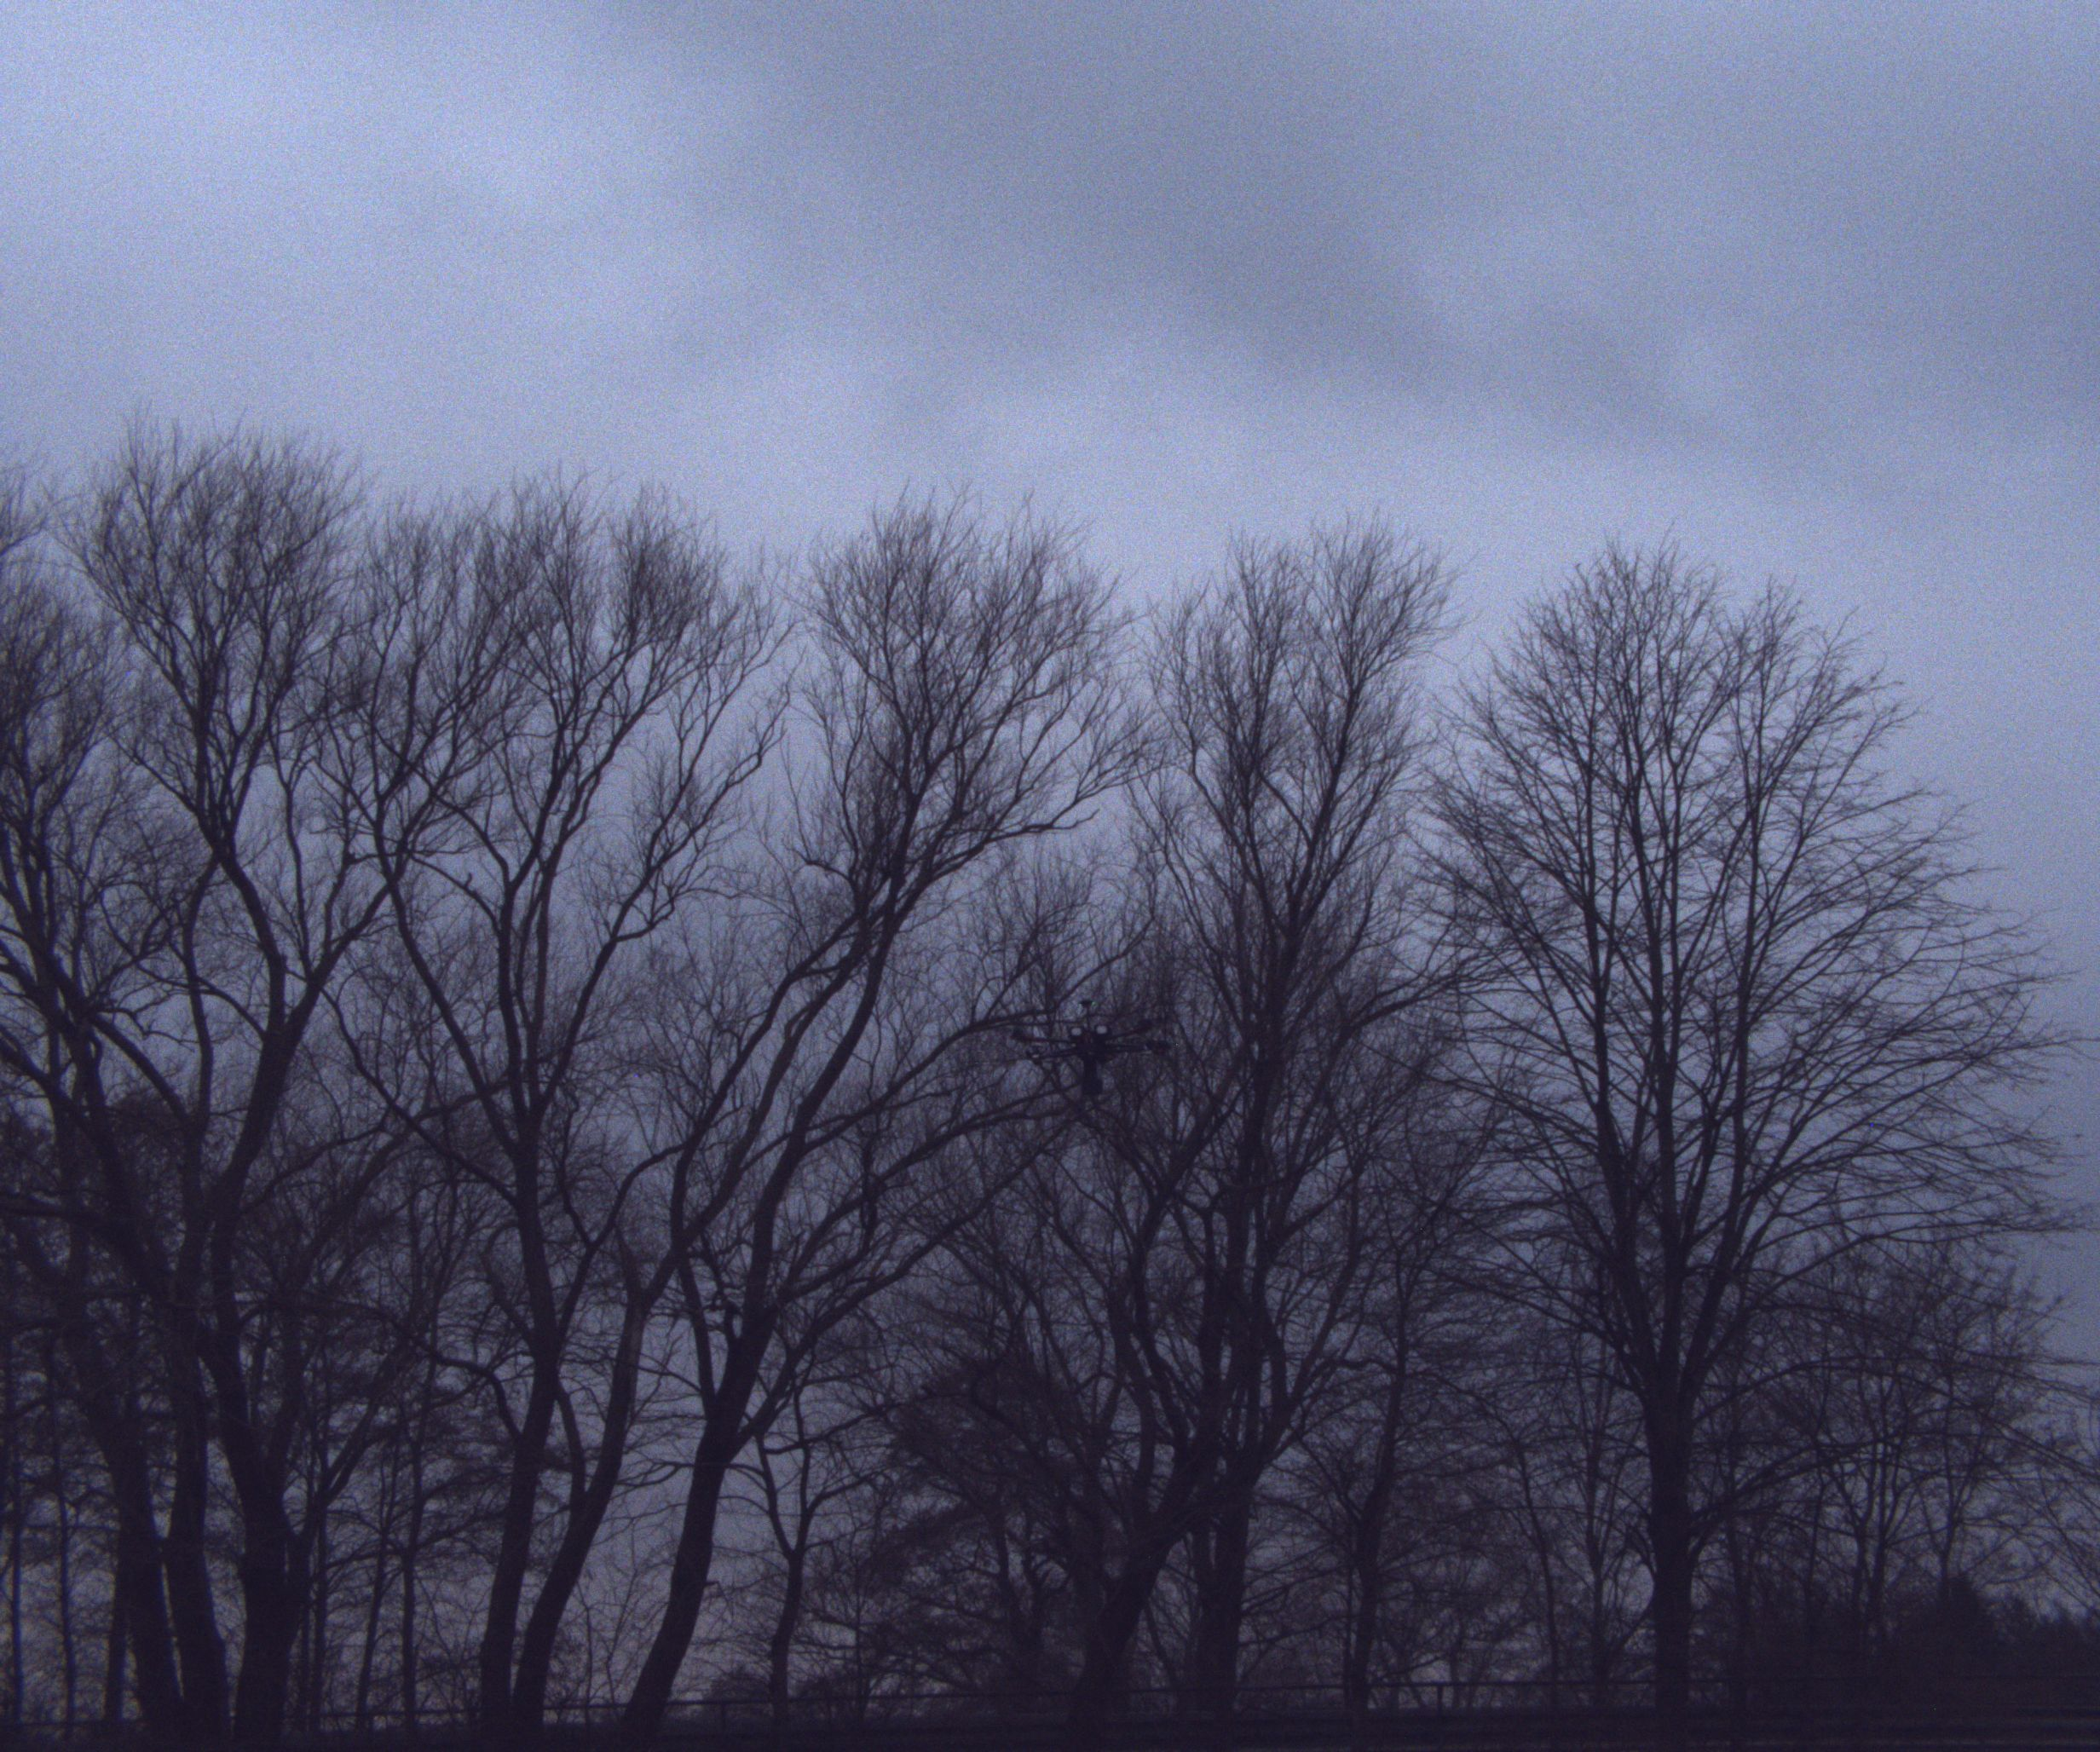Drohne: (994, 964, 1237, 1091)
